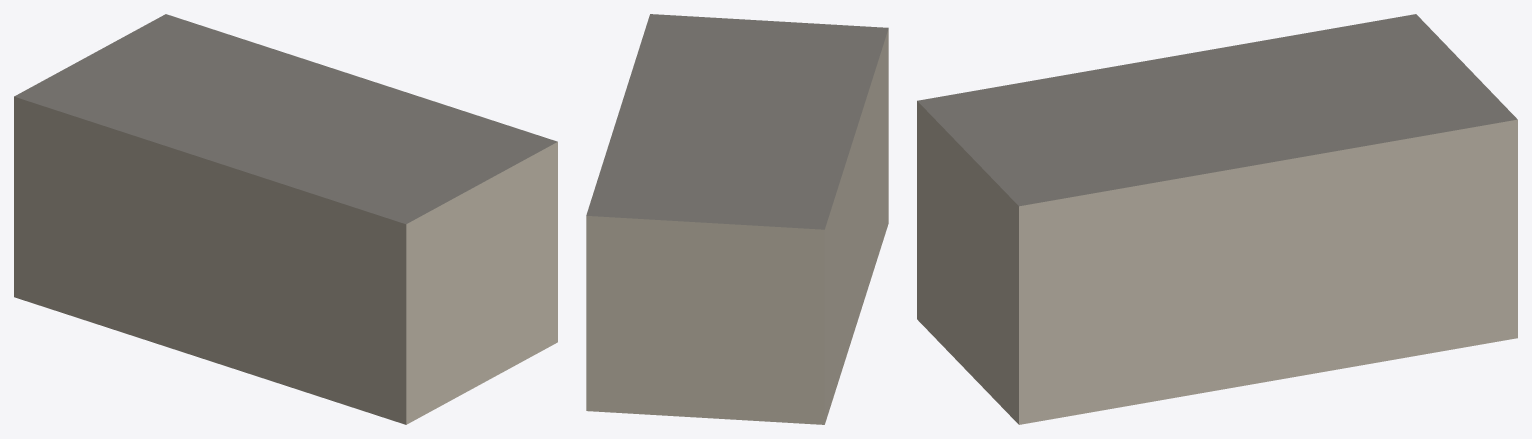
3 views of the same model, side by side, from view 1: azimuth 30°, elevation 25°; view 2: azimuth 150°, elevation 25°; view 3: azimuth 270°, elevation 25° (orthographic). The views are drawn at different scales.
Parts seen in each view (by area): view 1: HP-w1202494173; view 2: HP-w1202494173; view 3: HP-w1202494173.
Boxes of the visible parts, bbox=[...] form: HP-w1202494173: bbox=[14, 14, 557, 424]; HP-w1202494173: bbox=[586, 14, 888, 424]; HP-w1202494173: bbox=[917, 14, 1517, 424].
Bounding box in the file's own units: 22.64 × 12 × 29.88.
